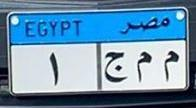1: (47, 50, 62, 88)
jeem: (102, 50, 128, 85)
meem: (133, 50, 154, 86), (160, 49, 180, 84)
